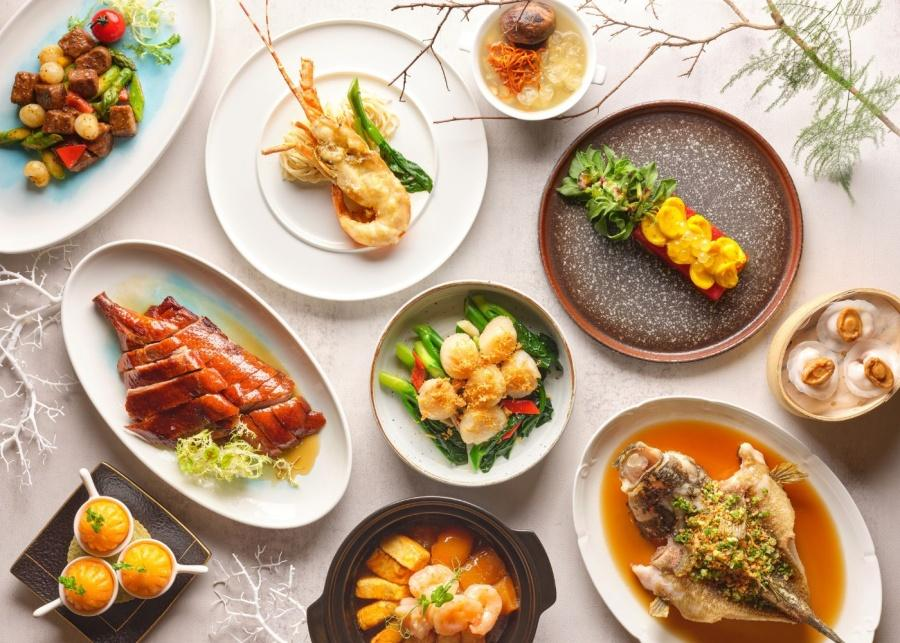Braised Crucian Carp: (58, 240, 346, 522), (208, 17, 469, 296), (576, 401, 883, 638), (537, 102, 793, 361), (2, 2, 216, 250), (366, 282, 562, 484), (8, 462, 214, 634), (309, 496, 552, 638)
